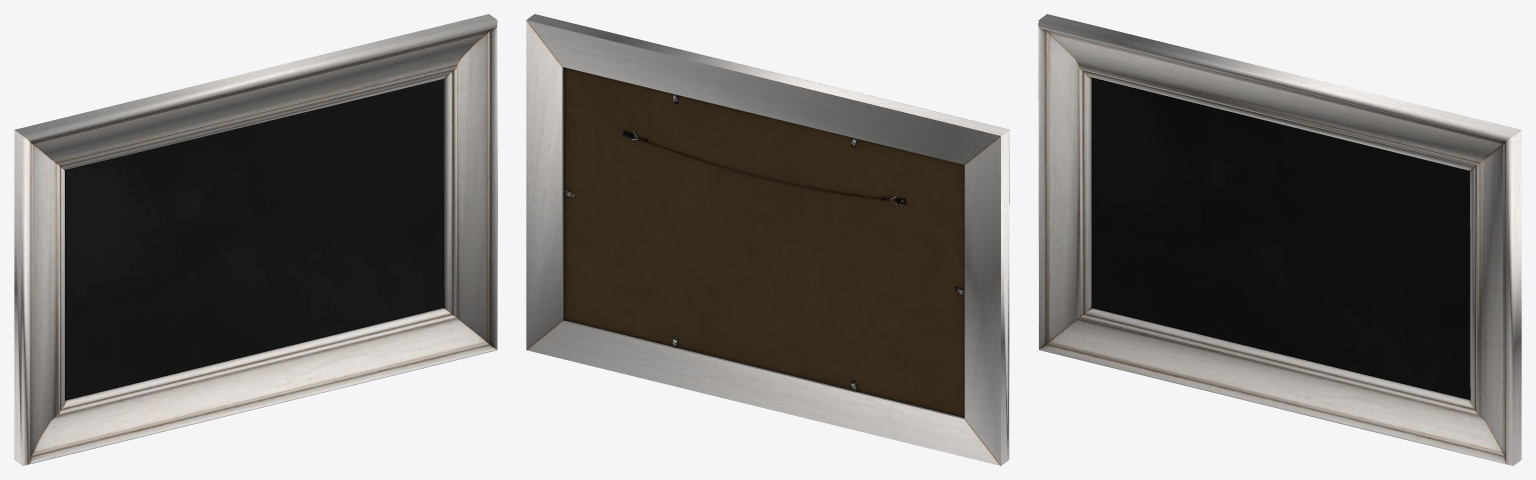
The model's file is hanging_picture_frame_02.glb.
3 views of the same model, side by side, from view 1: azimuth 30°, elevation 25°; view 2: azimuth 150°, elevation 25°; view 3: azimuth 330°, elevation 25° (orthographic).
Parts seen in each view (by area): view 1: hanging_picture_frame_02; view 2: hanging_picture_frame_02; view 3: hanging_picture_frame_02.
Boxes of the visible parts, x1=… form: hanging_picture_frame_02: x1=14, y1=14, x2=497, y2=465; hanging_picture_frame_02: x1=526, y1=14, x2=1009, y2=465; hanging_picture_frame_02: x1=1038, y1=14, x2=1521, y2=465.
Bounding box in the file's own units: 0.7512 × 0.4988 × 0.0322.
3 materials, 3 textured.
